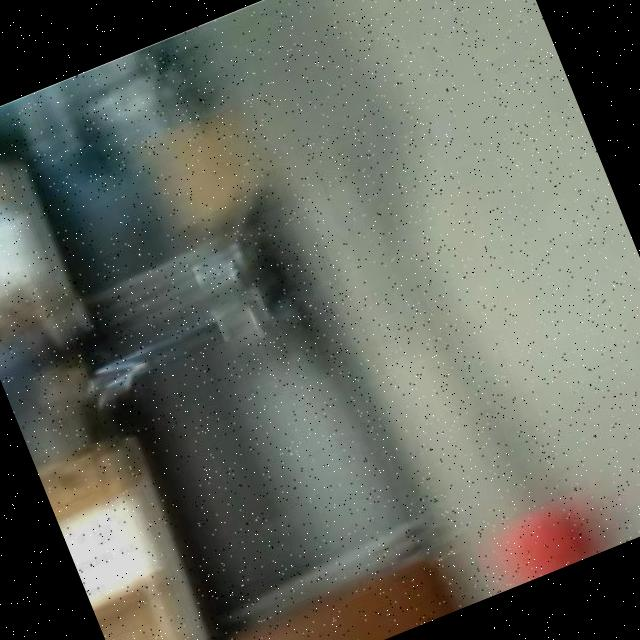ping-pong-ball: (464, 491, 600, 597)
